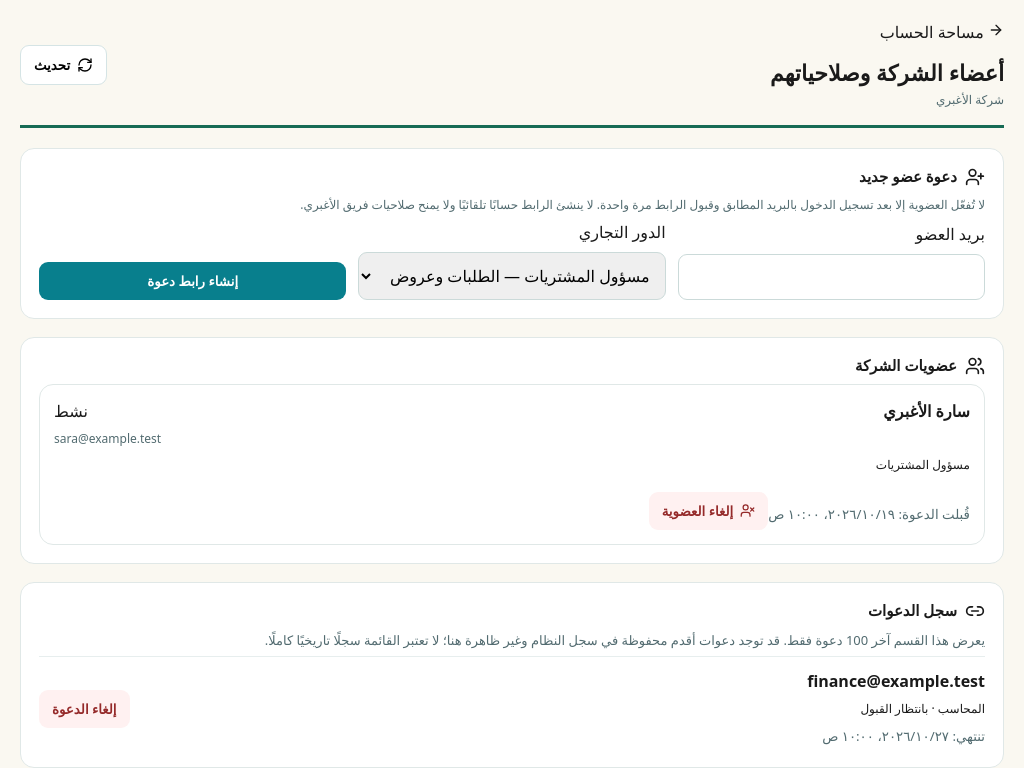
it: customer company membership screens › creates a server-backed invitation and exposes a manual-share link
Check: the text "سارة الأغبري" is shown, box [883,399,970,424]
Type "finance@example.test" into the field labelled "بريد العضو".
click(831, 277); type("finance@example.test")  # box [678,254,985,300]
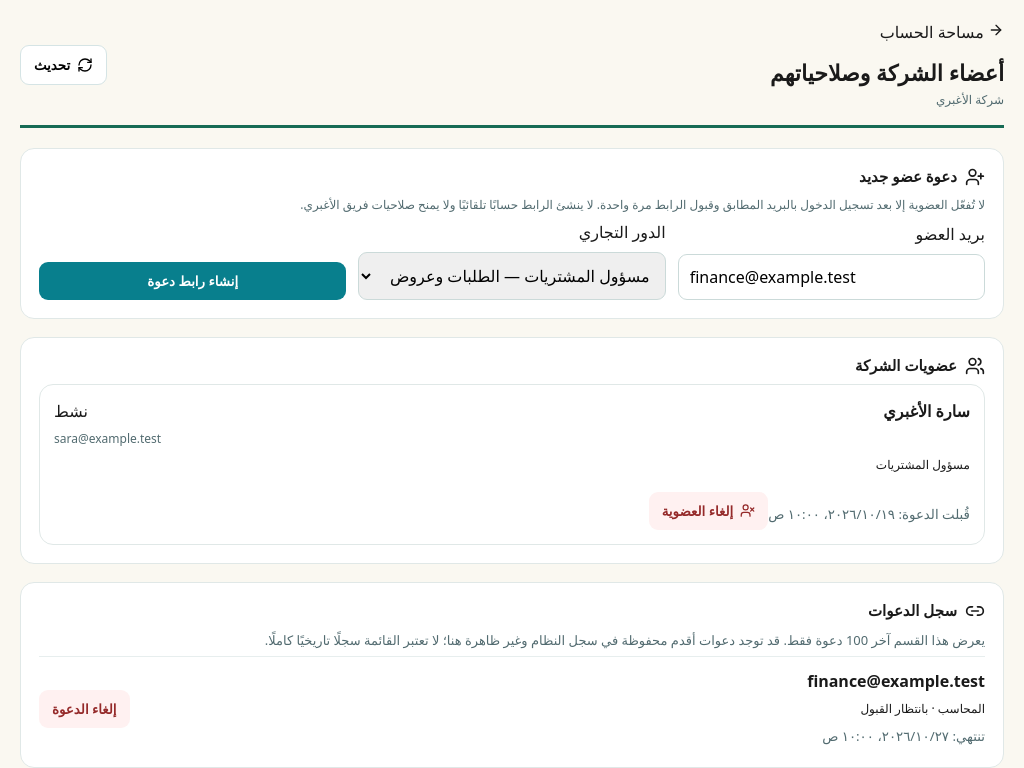
Select "المحاسب — قراءة الطلبات والفواتير وكشف الحساب." in the dropdown labelled "الدور التجاري" at (512, 276), box [358,252,666,300]
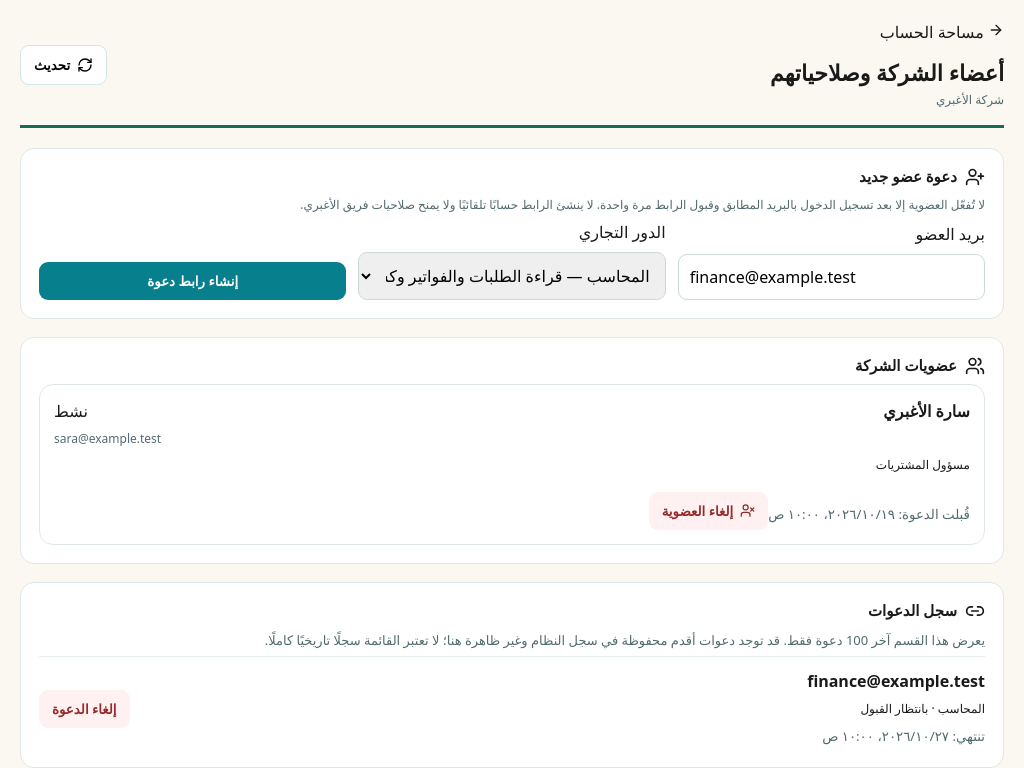
Click the button "إنشاء رابط دعوة".
click(193, 281)  # box [39,262,346,300]
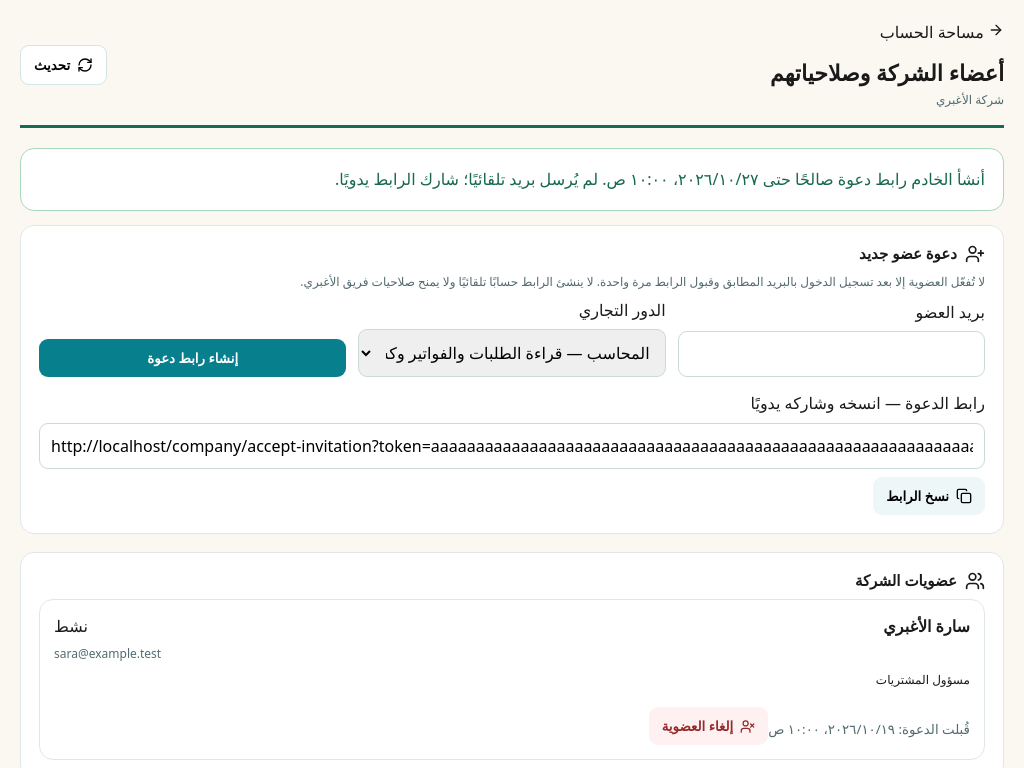
Check: the text "لم يُرسل بريد تلقائيًا؛ شارك الرابط يدويًا" is shown, box [335,168,985,190]
